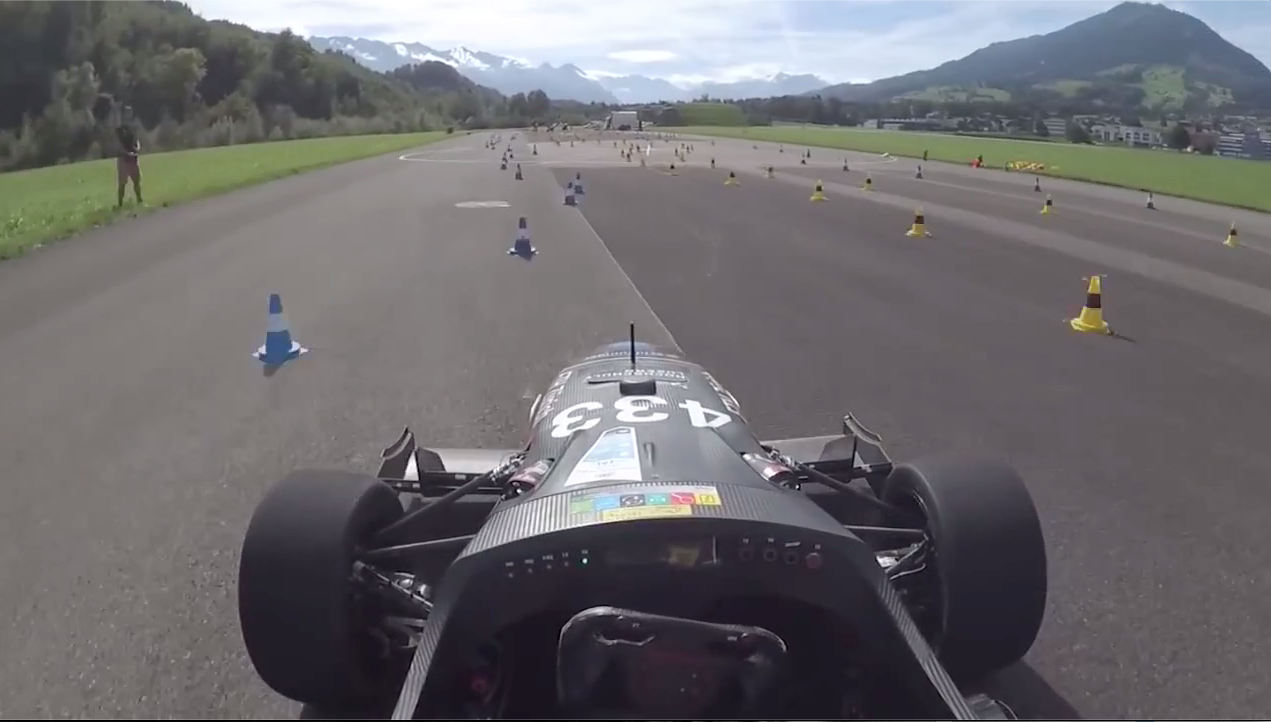lcone: (249, 288, 309, 366), (505, 211, 545, 261), (560, 179, 579, 208)
rcone: (1064, 271, 1121, 341), (902, 200, 937, 242), (809, 177, 830, 204)
